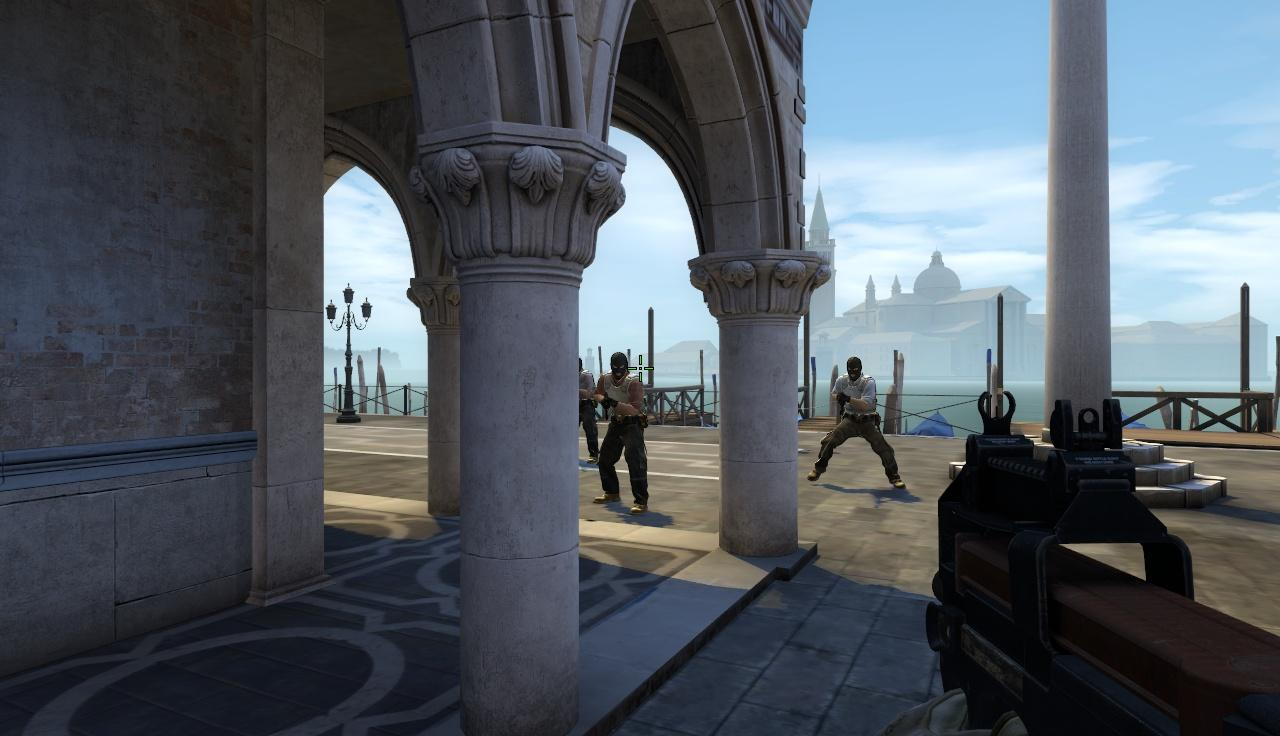rifle: (935, 387, 1280, 736)
tt: (599, 352, 646, 515), (828, 355, 879, 485), (579, 359, 597, 469)
tthead: (610, 352, 628, 379), (845, 356, 863, 380)
